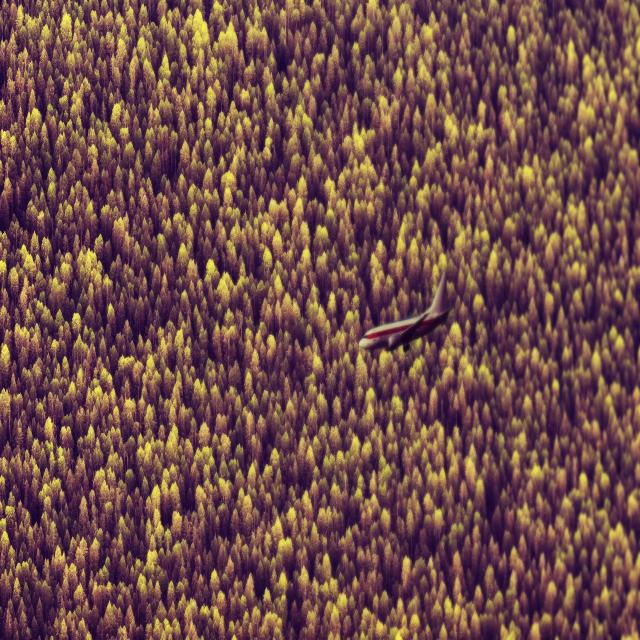airplane: (358, 271, 452, 354)
